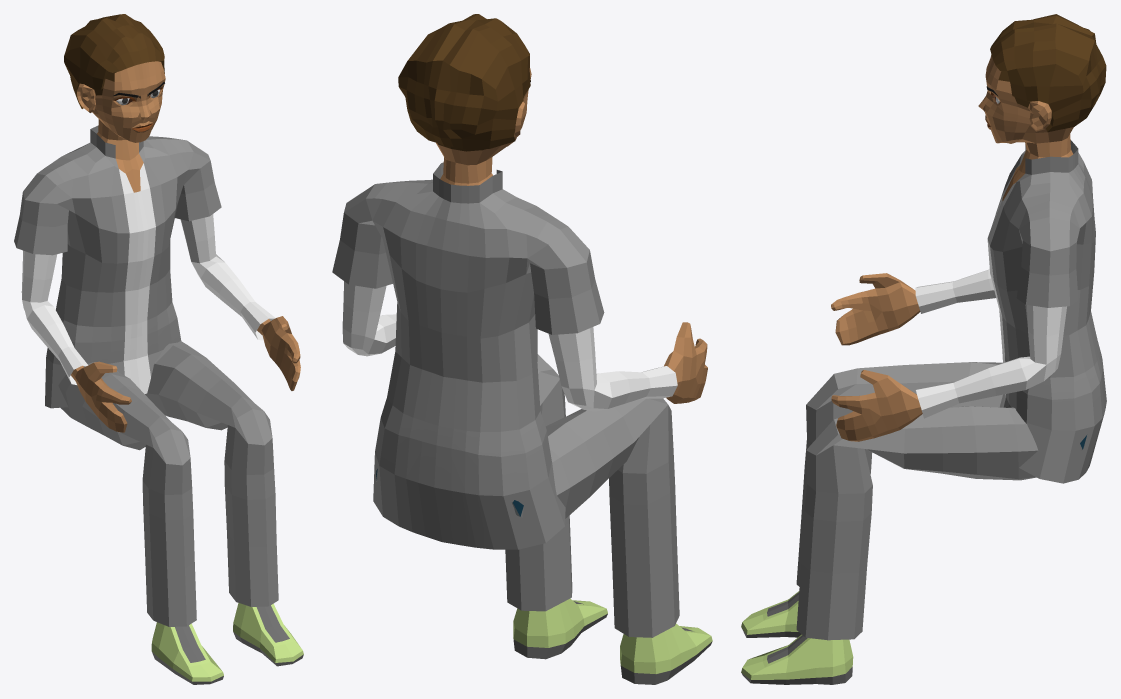
The model's file is StudentMale_Sit.fbx.
The picture shows the model from 3 angles, left to right: view 1: azimuth 30°, elevation 25°; view 2: azimuth 150°, elevation 25°; view 3: azimuth 270°, elevation 25°; orthographic projection. The views are drawn at different scales.
Parts seen in each view (by area): view 1: StudentMale_Sit; view 2: StudentMale_Sit; view 3: StudentMale_Sit.
Part boxes in pixels (bbox=[...]): StudentMale_Sit: bbox=[14, 14, 303, 684]; StudentMale_Sit: bbox=[332, 14, 712, 684]; StudentMale_Sit: bbox=[741, 14, 1106, 684].
Size of the model in its own units: 0.2614 by 0.6639 by 0.3473.
